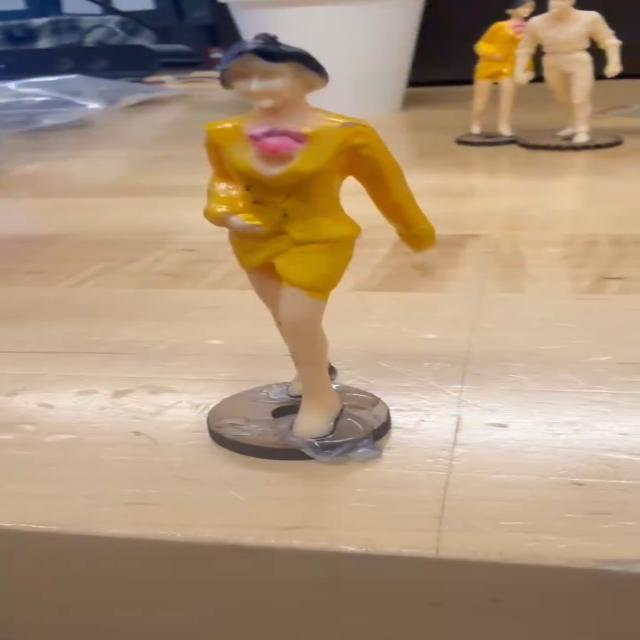Authorized: (184, 26, 441, 449)
